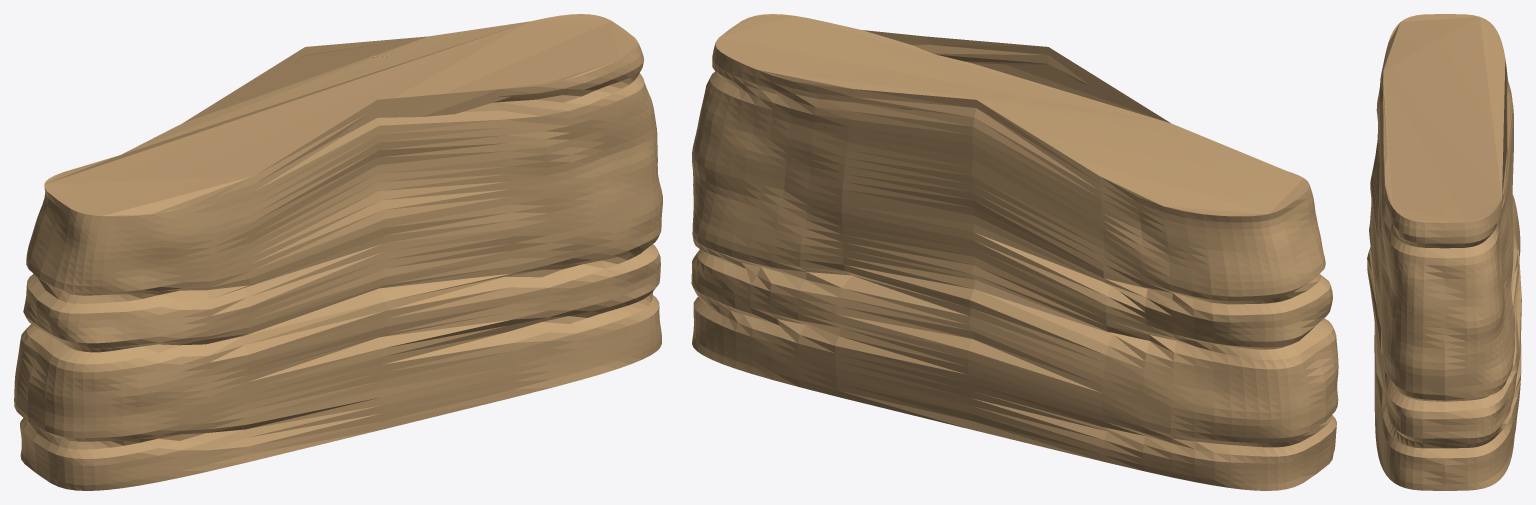
File: cut_face_long.glb
The picture shows the model from 3 angles, left to right: view 1: azimuth 30°, elevation 25°; view 2: azimuth 150°, elevation 25°; view 3: azimuth 270°, elevation 25°; orthographic projection. The views are drawn at different scales.
Parts seen in each view (by area): view 1: CutFace; view 2: CutFace; view 3: CutFace.
Part boxes in pixels (bbox=[...]): CutFace: bbox=[14, 14, 662, 490]; CutFace: bbox=[691, 14, 1338, 490]; CutFace: bbox=[1367, 14, 1521, 490].
Bounding box in the file's own units: 8 × 4 × 2.
